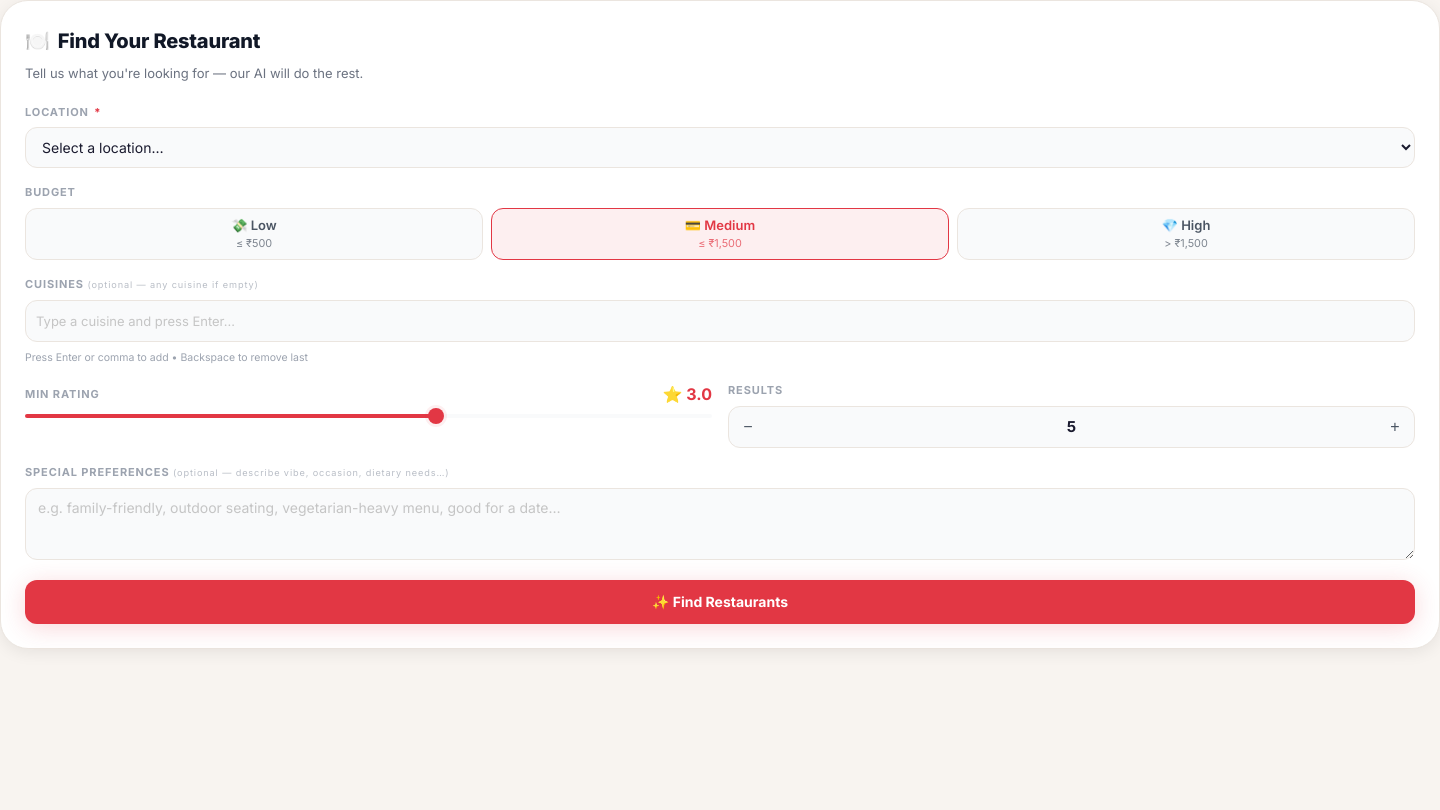
PreferenceForm › shows error message if submitted with empty location
This screenshot has width=1440, height=810.
Click the button "✨ Find Restaurants" at (720, 602), box [25,580,1415,624]
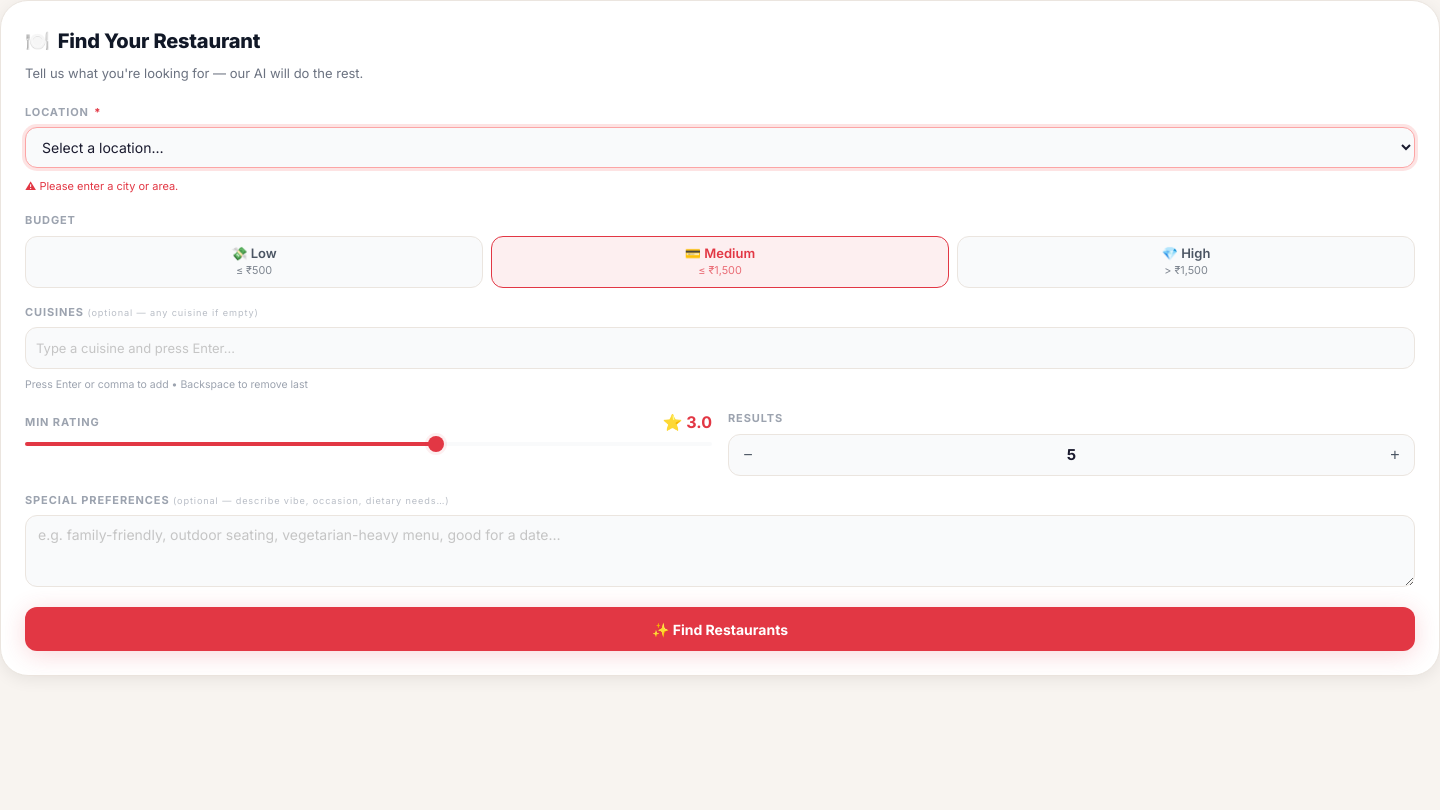
Check: the message shows "Please enter a city or area", box [39,179,178,193]
